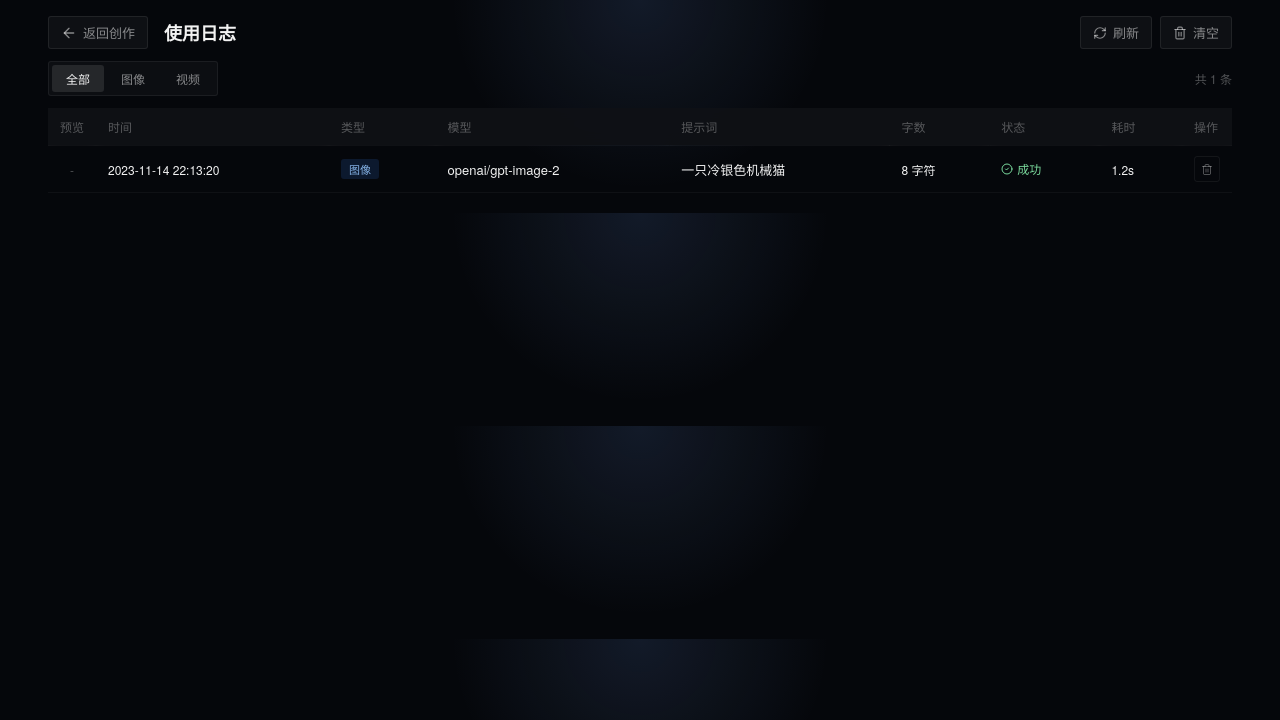
Test case: UsageLogPage › 清空按钮弹二次确认，确认后清空列表
// 点击「清空」只弹确认框，尚未真正清空
Click the button with class "header-btn--danger" at [1196, 32], box [1160,16,1232,49]
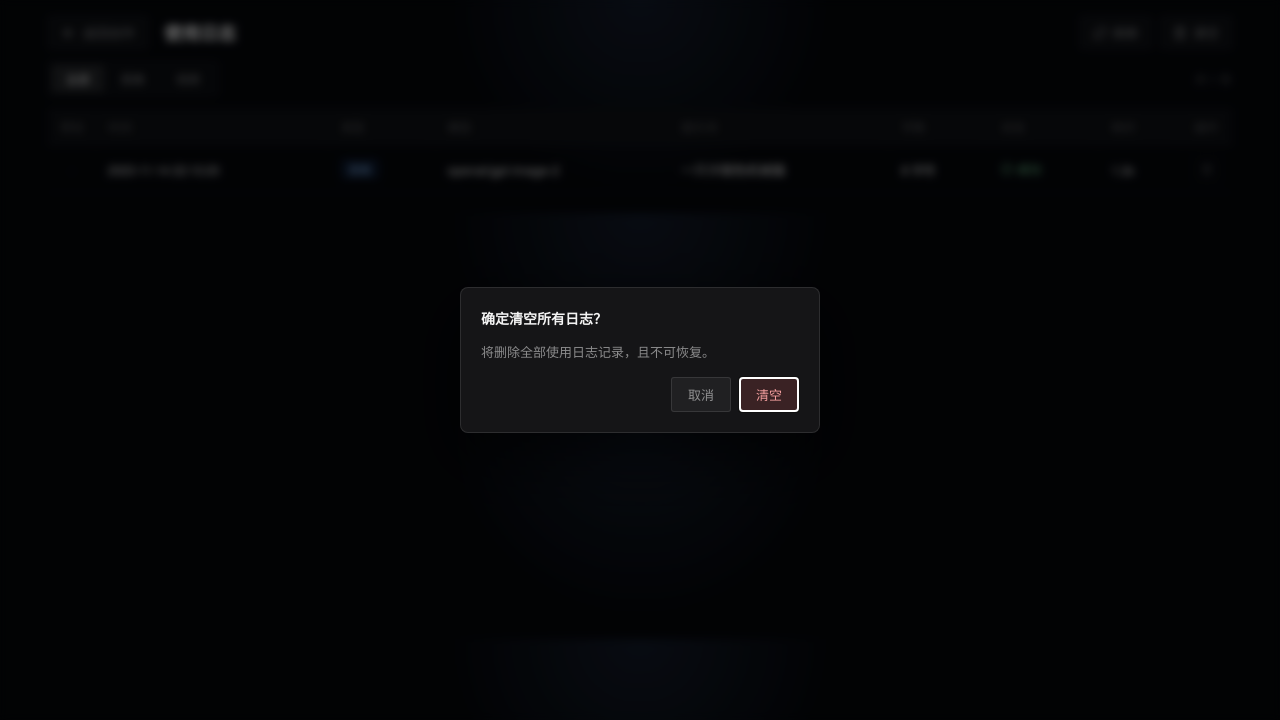
Expected: the element showing "确定清空所有日志？ 将删除全部使用日志记录，且不可恢复。 取消 清空" is shown
Click the button "清空" at [769, 394], box [739,377,799,412]
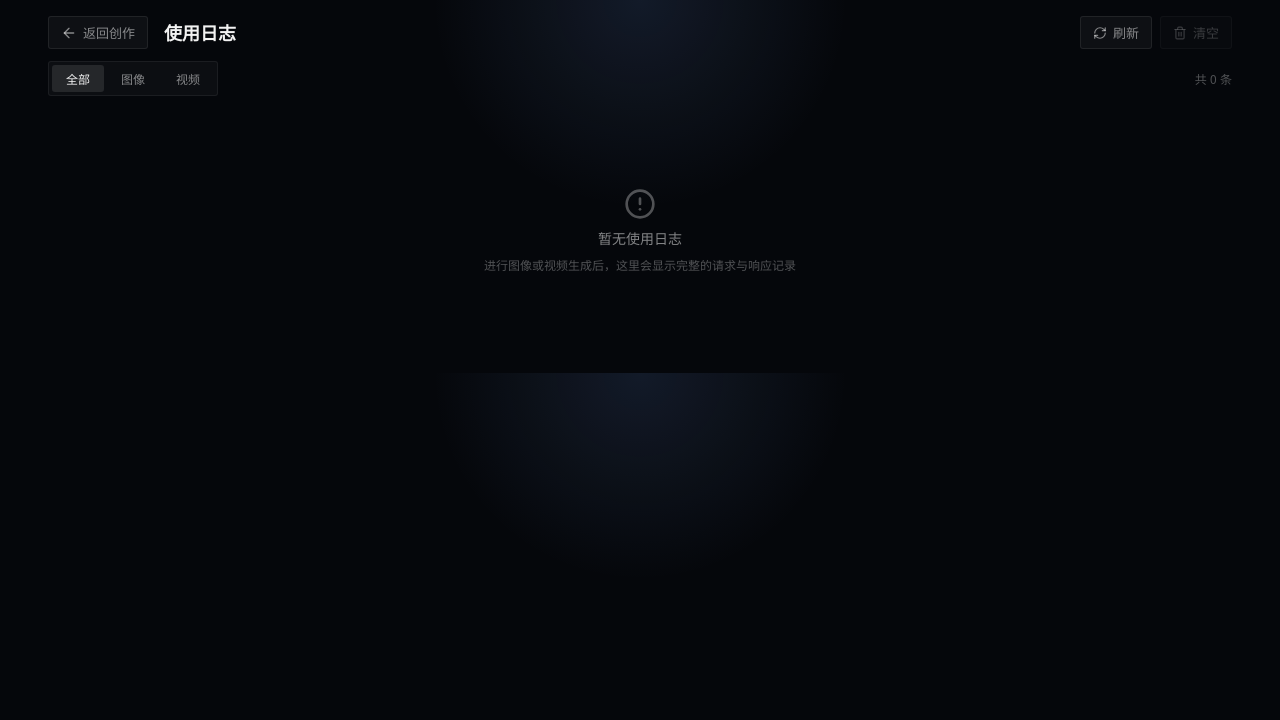
Expected: the element with class "empty-state" is shown, [484,188,796,273]
